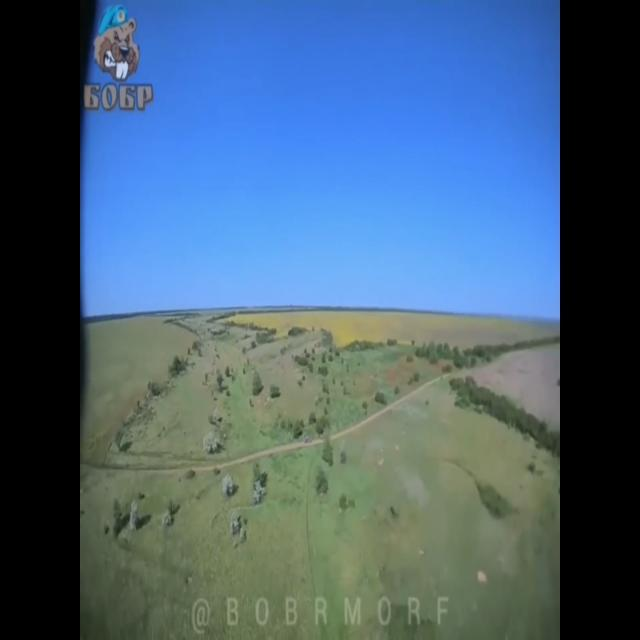cars: (304, 436, 312, 444)
